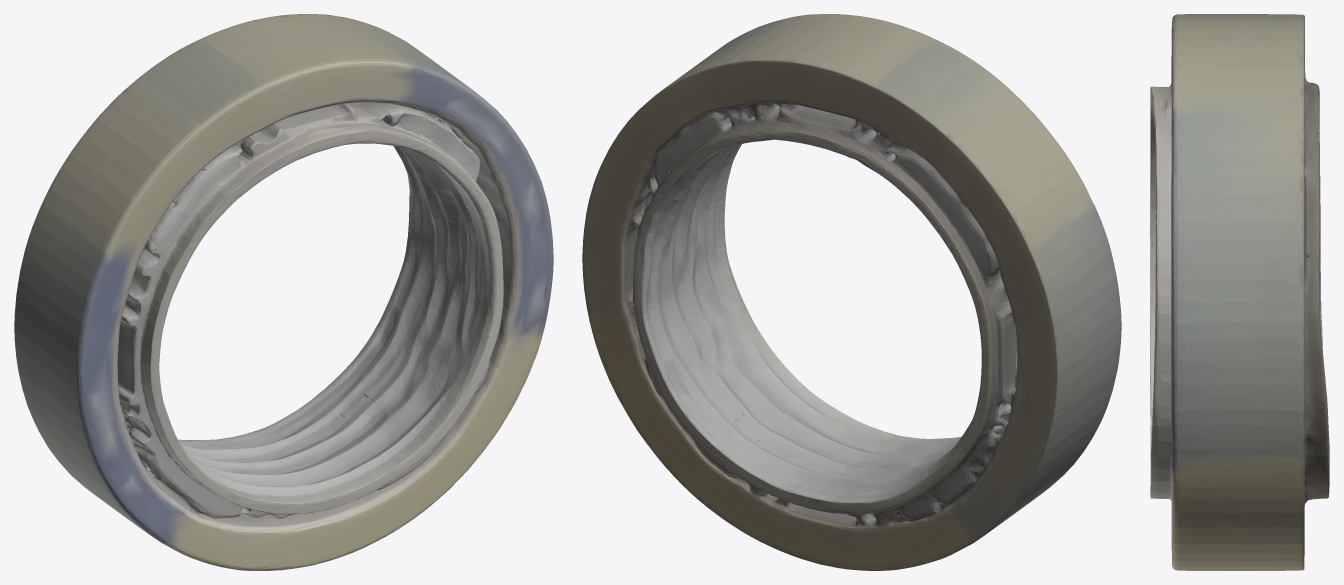
3 views of the same model, side by side, from view 1: azimuth 30°, elevation 25°; view 2: azimuth 150°, elevation 25°; view 3: azimuth 270°, elevation 25° (orthographic).
Visible parts, largest first — view 1: world; view 2: world; view 3: world.
Boxes of the visible parts, x1,y1,x2,y2 form: world: [14, 14, 553, 570]; world: [582, 14, 1121, 570]; world: [1150, 14, 1329, 570].
Size of the model in its own units: 0.1132 by 0.1132 by 0.0365.
